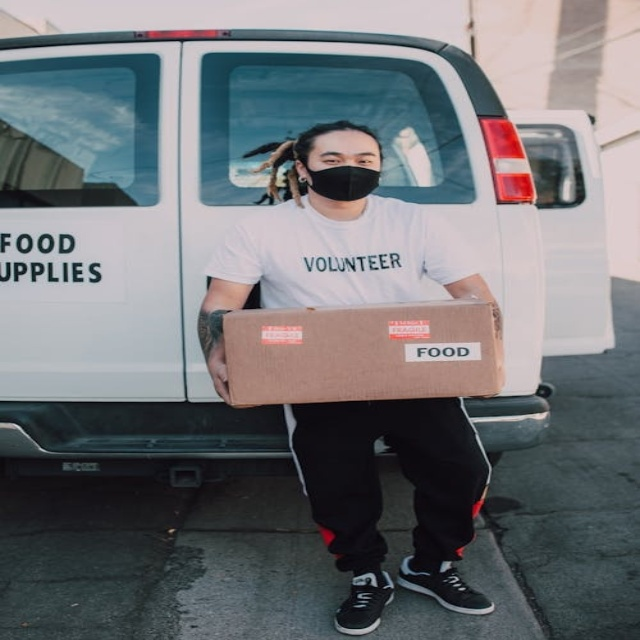Mascara: (301, 163, 381, 201)
Sin_gafas: (312, 147, 381, 166)
Sin_guantes: (205, 358, 265, 410)
